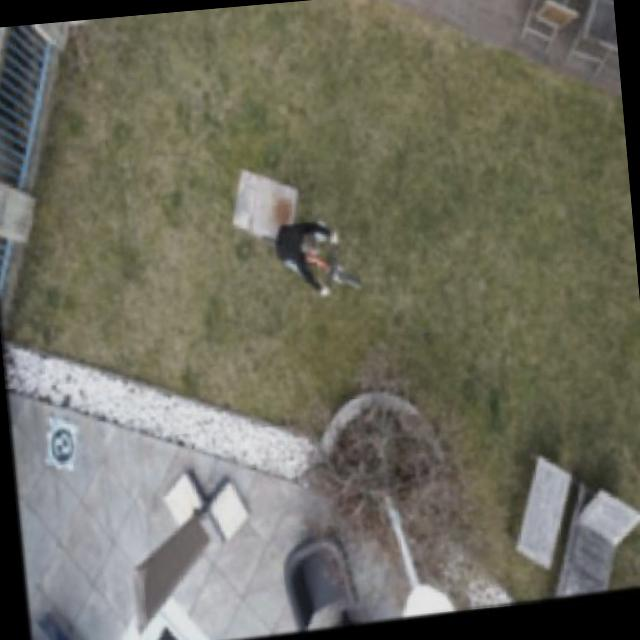Person: (262, 213, 349, 307)
